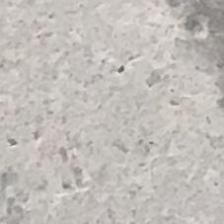Non_Crack: (16, 24, 220, 188)
